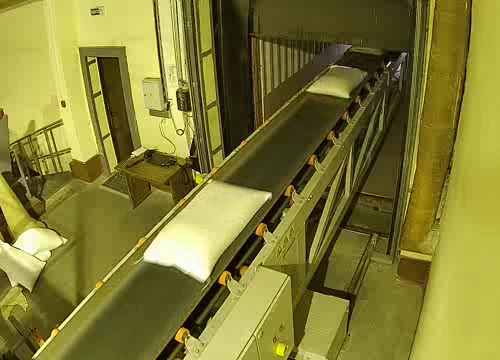bag: (139, 176, 273, 284), (306, 63, 369, 98), (349, 45, 386, 57)
